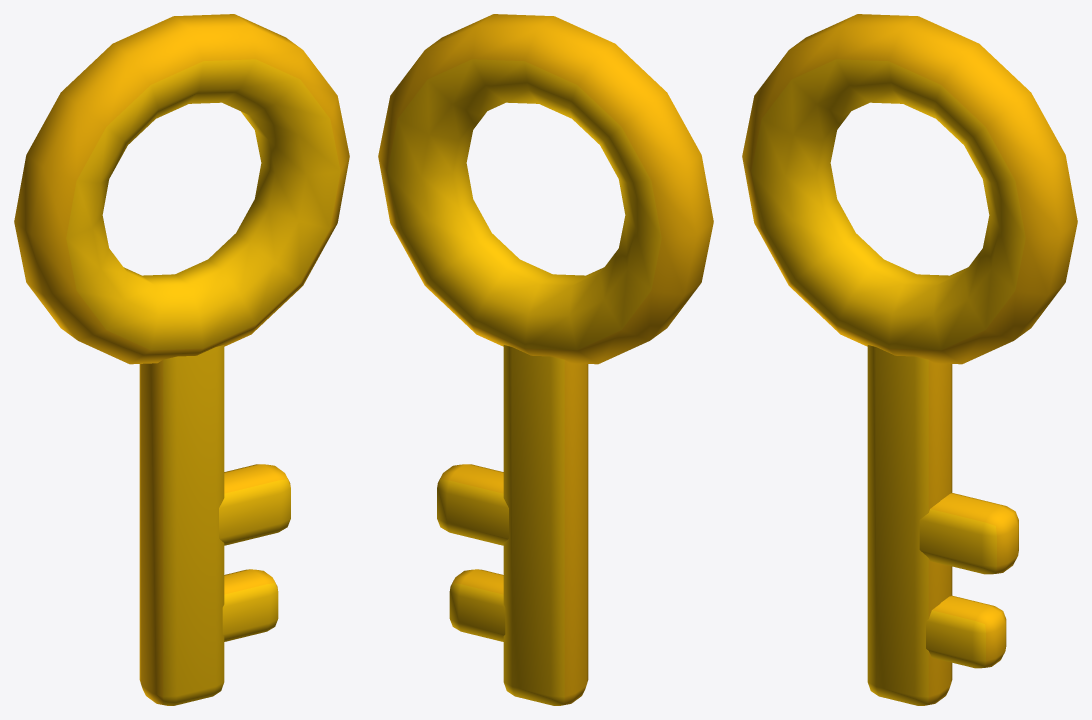
The model's file is Key.fbx.
3 views of the same model, side by side, from view 1: azimuth 30°, elevation 25°; view 2: azimuth 150°, elevation 25°; view 3: azimuth 330°, elevation 25° (orthographic).
Parts seen in each view (by area): view 1: Key; view 2: Key; view 3: Key.
Part boxes in pixels (<box>): Key: <box>14,14,349,705</box>; Key: <box>378,14,713,705</box>; Key: <box>742,14,1077,705</box>.
Bounding box in the file's own units: 24.42 × 49.43 × 5.69.
